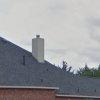Chimney: (26, 30, 58, 61)
